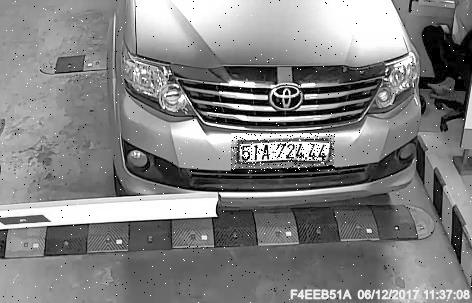License-plate: (233, 135, 337, 173)
